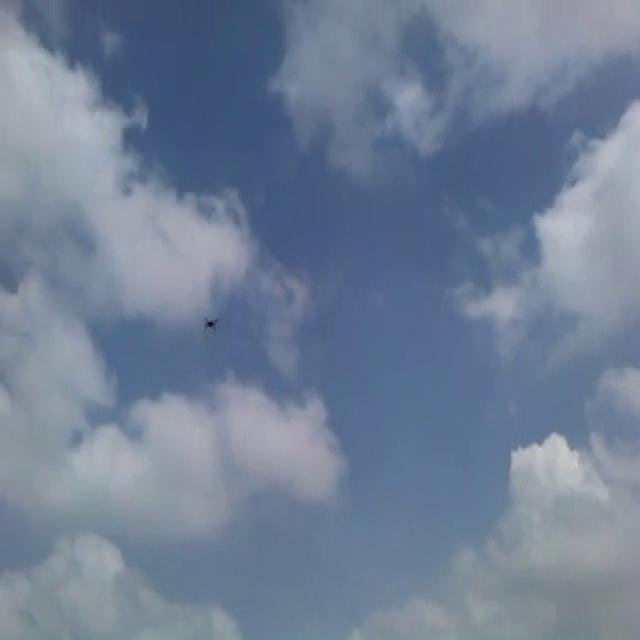drone: (200, 304, 221, 336)
